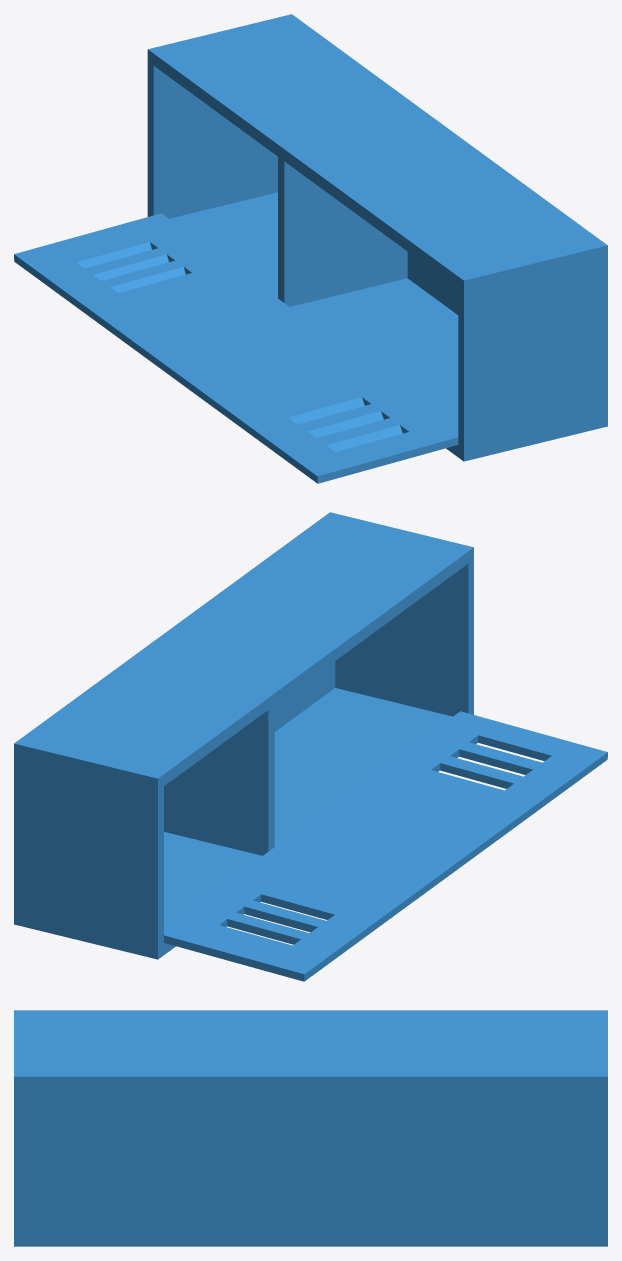
File: OpenFallenLocker3.fbx
The picture shows the model from 3 angles, top to bottom: view 1: azimuth 30°, elevation 25°; view 2: azimuth 150°, elevation 25°; view 3: azimuth 270°, elevation 25°; orthographic projection. The views are drawn at different scales.
Parts seen in each view (by area): view 1: Locker.001; view 2: Locker.001; view 3: Locker.001.
Boxes of the visible parts, x1,y1,x2,y2 form: Locker.001: (14, 14, 607, 483); Locker.001: (14, 512, 607, 981); Locker.001: (14, 1010, 607, 1246).
Bounding box in the file's own units: 78.9 × 48 × 152.
